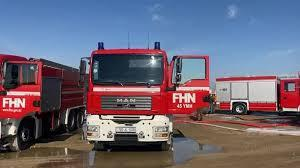Fire-engine: (79, 35, 212, 154), (0, 41, 81, 154)
